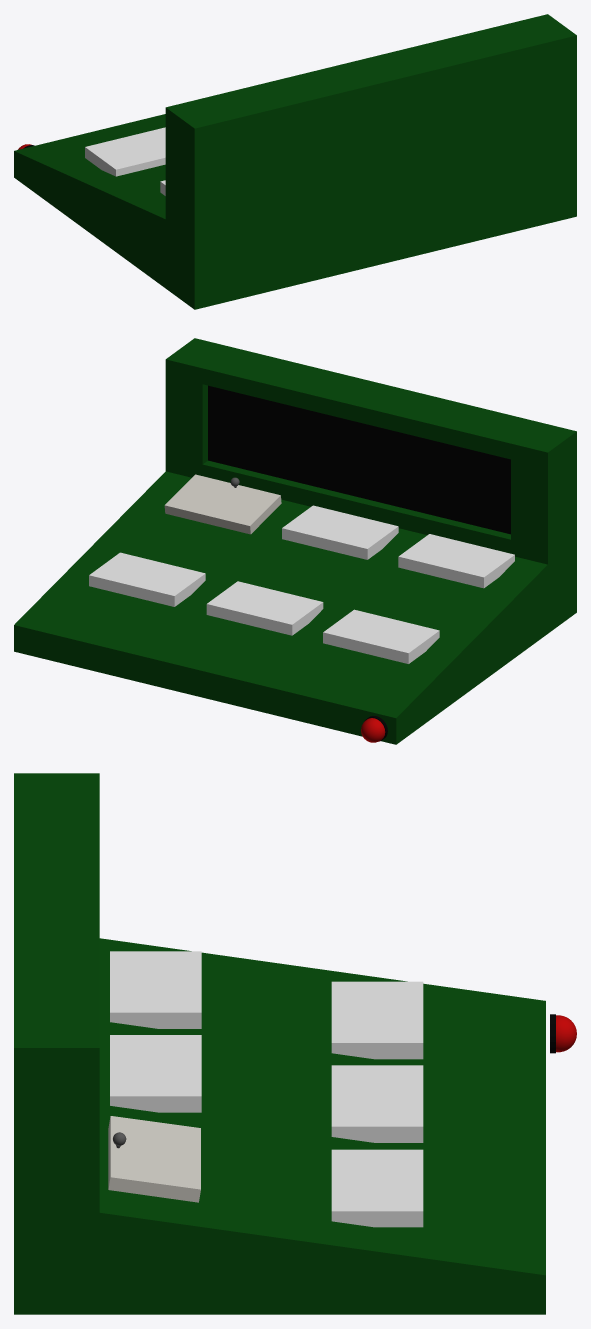
The model's file is Maquina adivinadora.fbx.
3 views of the same model, one above another, from view 1: azimuth 30°, elevation 25°; view 2: azimuth 150°, elevation 25°; view 3: azimuth 270°, elevation 25° (orthographic). The views are drawn at different scales.
Parts seen in each view (by area): view 1: Case Maquina adivinadora, Tarjeta 6; view 2: Case Maquina adivinadora, Pantalla adivinadora, Tarjeta 1, Tarjeta 5, Tarjeta 4, Tarjeta 6, Tarjeta 3, Tarjeta 2; view 3: Case Maquina adivinadora, Tarjeta 4, Tarjeta 6, Tarjeta 5, Tarjeta 3, Tarjeta 2, Tarjeta 1.
Part boxes in pixels (x1,y1,x2,y2): Case Maquina adivinadora: (14,14,576,309); Tarjeta 6: (85,127,165,176); Case Maquina adivinadora: (14,338,576,744); Pantalla adivinadora: (208,385,510,534); Tarjeta 1: (164,474,281,534); Tarjeta 5: (206,581,323,635); Tarjeta 4: (89,552,205,606); Tarjeta 6: (323,609,439,663); Tarjeta 3: (398,534,514,588); Tarjeta 2: (282,505,398,559); Case Maquina adivinadora: (14,773,545,1314); Tarjeta 4: (331,1149,423,1227); Tarjeta 6: (331,981,423,1059); Tarjeta 5: (331,1065,423,1142); Tarjeta 3: (110,951,201,1028); Tarjeta 2: (110,1035,201,1112); Tarjeta 1: (108,1116,200,1202).
Bounding box in the file's own units: 113 × 130 × 59.07.
